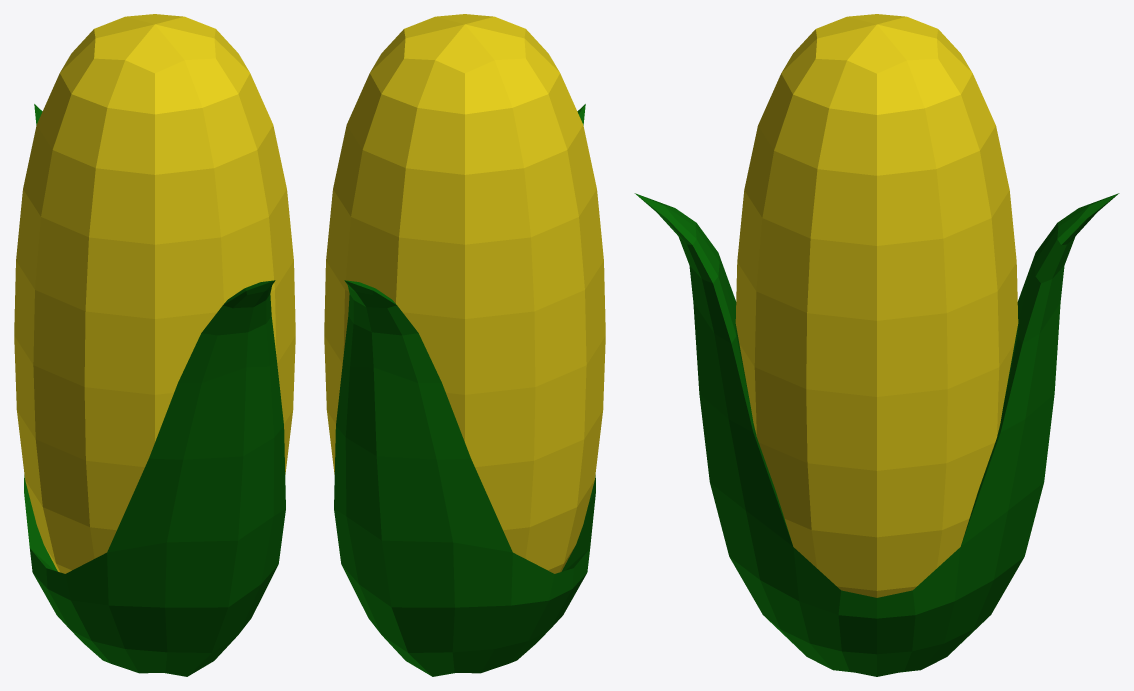
Rendered from Corn.fbx.
3 views of the same model, side by side, from view 1: azimuth 30°, elevation 25°; view 2: azimuth 150°, elevation 25°; view 3: azimuth 270°, elevation 25° (orthographic).
Visible parts, largest first — view 1: Sphere.001, Sphere; view 2: Sphere.001, Sphere; view 3: Sphere.001, Sphere.
Boxes of the visible parts, <box> form: Sphere.001: <box>14,14,295,573</box>; Sphere: <box>24,104,285,676</box>; Sphere.001: <box>324,14,605,573</box>; Sphere: <box>334,104,595,676</box>; Sphere.001: <box>735,14,1018,597</box>; Sphere: <box>634,193,1119,676</box>.
Size of the model in its own units: 83.95 by 213 by 144.
